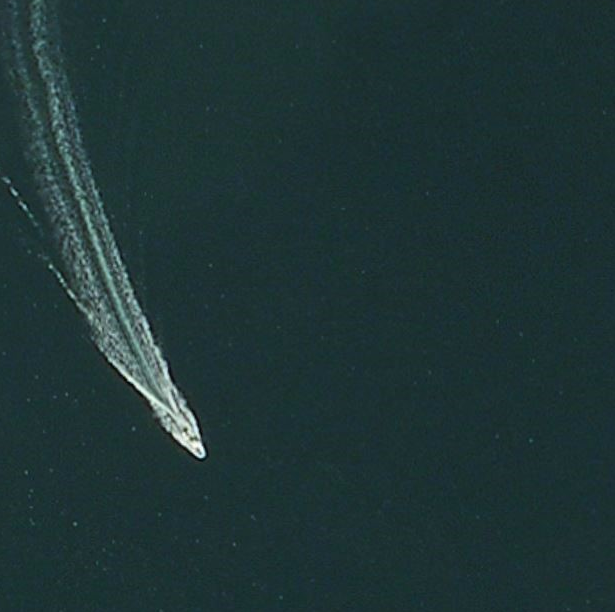ship: (176, 429, 211, 462)
